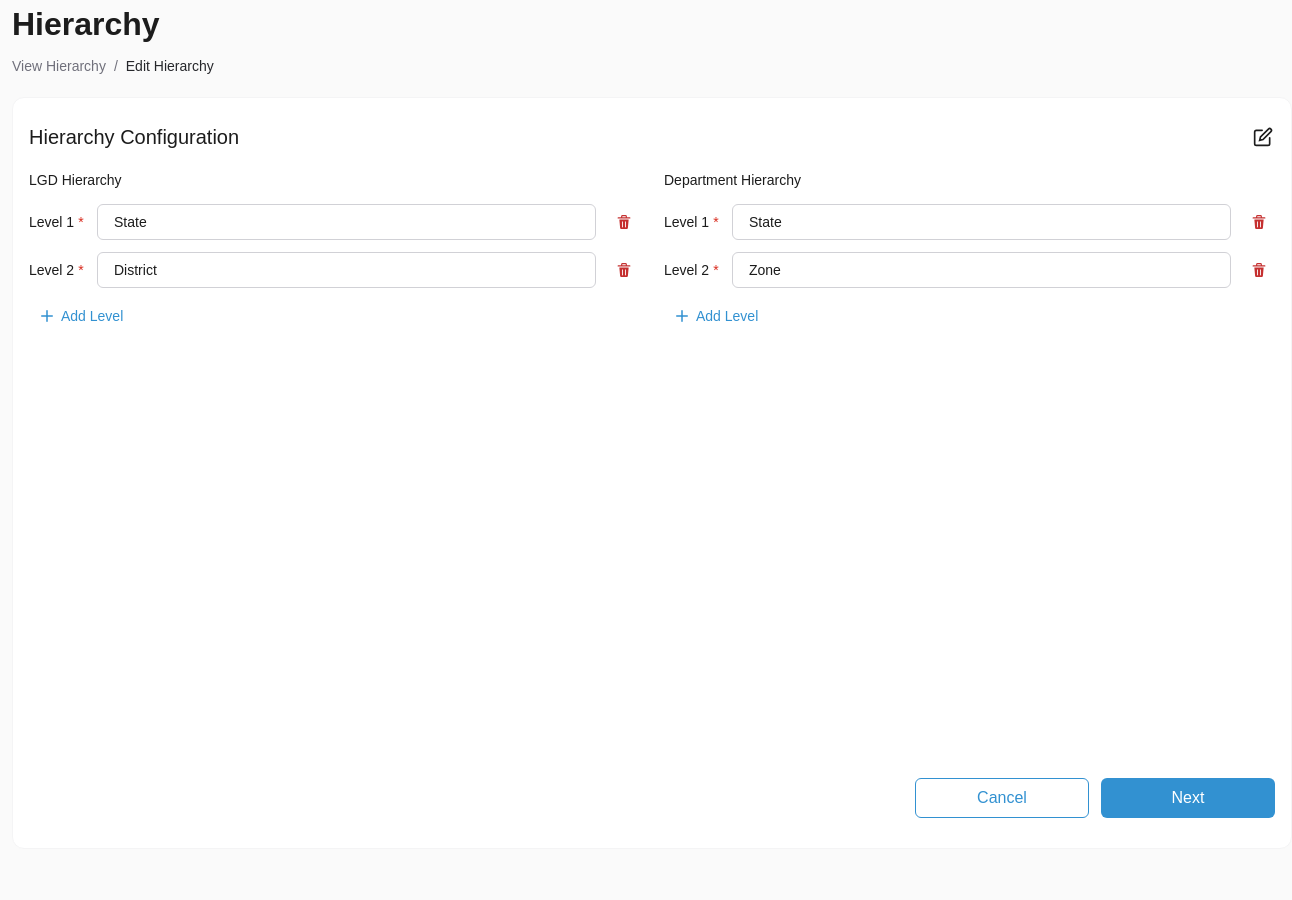
HierarchyPage › ONBOARDED tenant › shows Save & Next button when form has changes
Expected: the button "Next" is shown, [1101,778,1275,818]
Replace the text in the field labelled "Level 1*" below "LGD Hierarchy" with "NewStateName": (346, 222) [97,204,596,240]
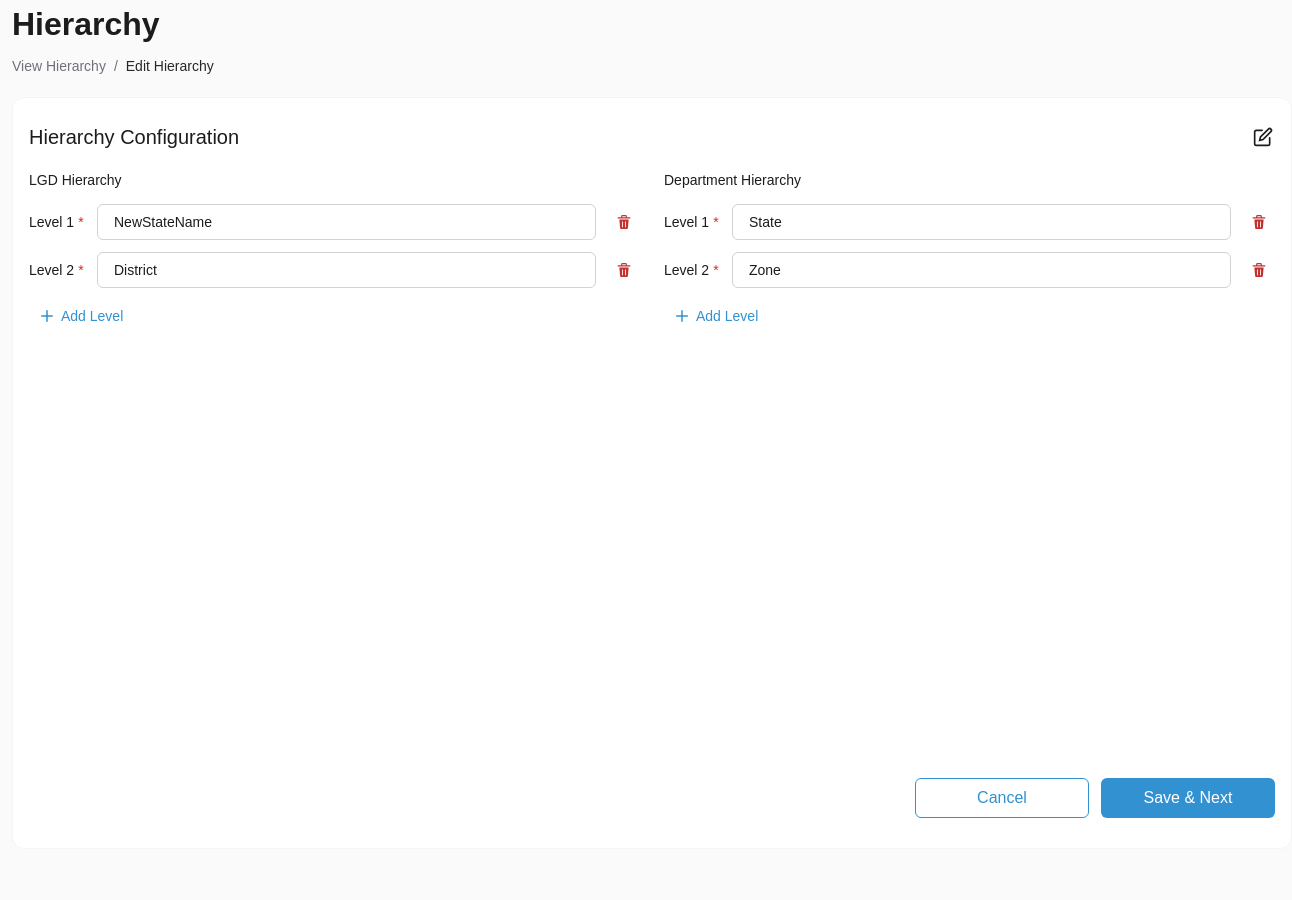
Expected: the button "Save & Next" is shown, [1101,778,1275,818]
